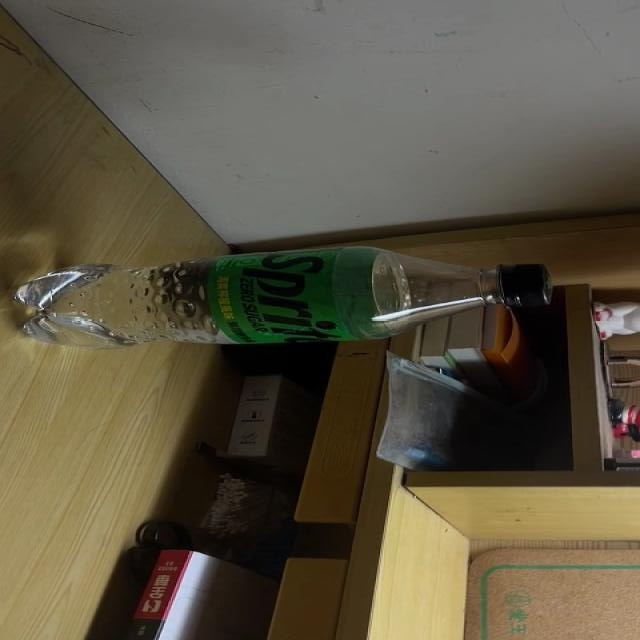Sprite: (16, 246, 552, 348)
